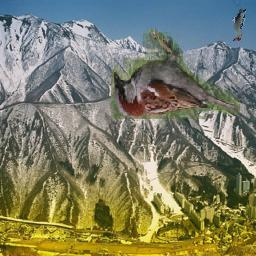Sparrow: (112, 29, 241, 120)
Woodpecker: (232, 7, 246, 41)
